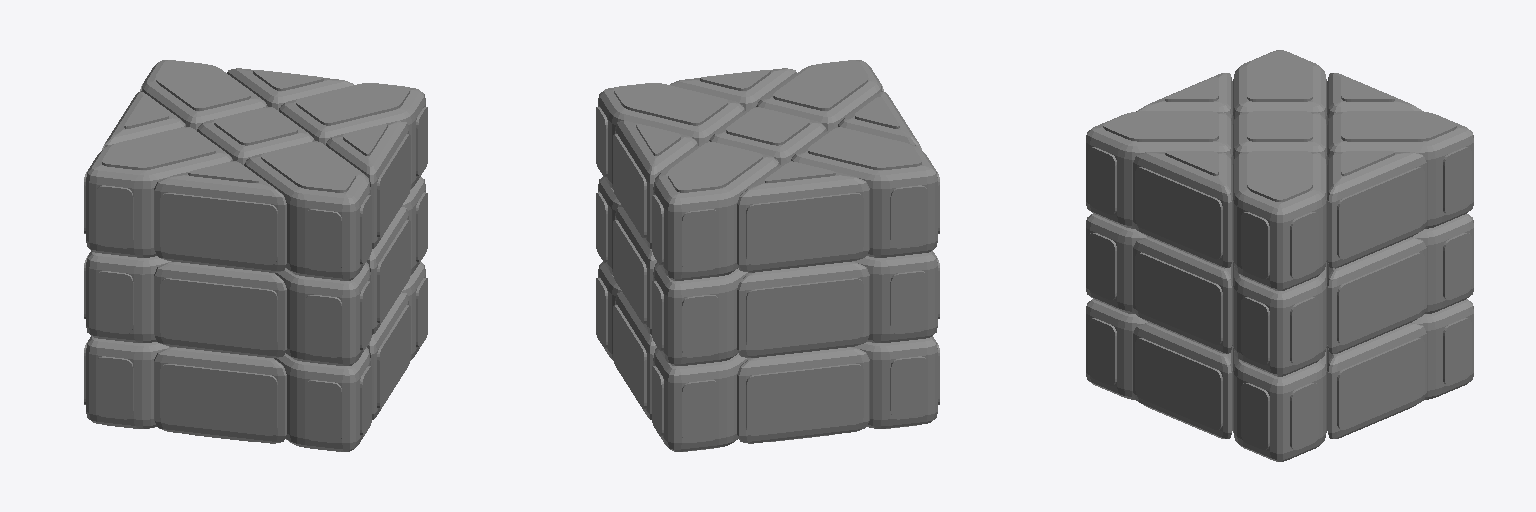
Rendered from Fisher333.obj.
3 renders of one model, left to right at view 1: azimuth 30°, elevation 25°; view 2: azimuth 150°, elevation 25°; view 3: azimuth 270°, elevation 25°, orthographic.
Parts seen in each view (by area): view 1: UFL, UF, DLF, FL, UL, DF, F, UR, DL, L, URF, UB (+7 smaller); view 2: ULB, UB, DBL, BL, UL, DB, B, UR, DL, L, UBR, UF (+7 smaller); view 3: UR, URF, UBR, UF, UB, BR, FR, DFR, DRB, R, DR, UL (+7 smaller).
Part boxes in pixels (bbox=[...]): UFL: bbox=[154, 161, 286, 272]; UF: bbox=[244, 141, 371, 280]; DLF: bbox=[154, 347, 286, 443]; FL: bbox=[154, 261, 286, 357]; UL: bbox=[84, 127, 232, 257]; DF: bbox=[274, 347, 371, 451]; F: bbox=[275, 262, 371, 365]; UR: bbox=[279, 83, 427, 188]; DL: bbox=[84, 336, 168, 428]; L: bbox=[84, 250, 170, 342]; URF: bbox=[326, 121, 410, 248]; UB: bbox=[140, 60, 267, 130]; ULB: bbox=[737, 161, 869, 272]; UB: bbox=[652, 141, 779, 280]; DBL: bbox=[737, 347, 869, 443]; BL: bbox=[737, 261, 869, 357]; UL: bbox=[791, 127, 939, 257]; DB: bbox=[652, 347, 749, 451]; B: bbox=[652, 262, 748, 365]; UR: bbox=[596, 83, 744, 188]; DL: bbox=[855, 336, 939, 428]; L: bbox=[853, 250, 939, 342]; UBR: bbox=[613, 121, 697, 248]; UF: bbox=[756, 60, 883, 130]; UR: bbox=[1233, 151, 1326, 290]; URF: bbox=[1133, 151, 1232, 268]; UBR: bbox=[1327, 151, 1426, 268]; UF: bbox=[1086, 111, 1232, 228]; UB: bbox=[1327, 111, 1473, 228]; BR: bbox=[1327, 237, 1426, 353]; FR: bbox=[1133, 237, 1232, 353]; DFR: bbox=[1133, 323, 1232, 438]; DRB: bbox=[1327, 323, 1426, 438]; R: bbox=[1233, 262, 1326, 376]; DR: bbox=[1233, 348, 1326, 461]; UL: bbox=[1233, 50, 1326, 123].
Size of the model in its own units: 4.12 by 3.06 by 4.12.